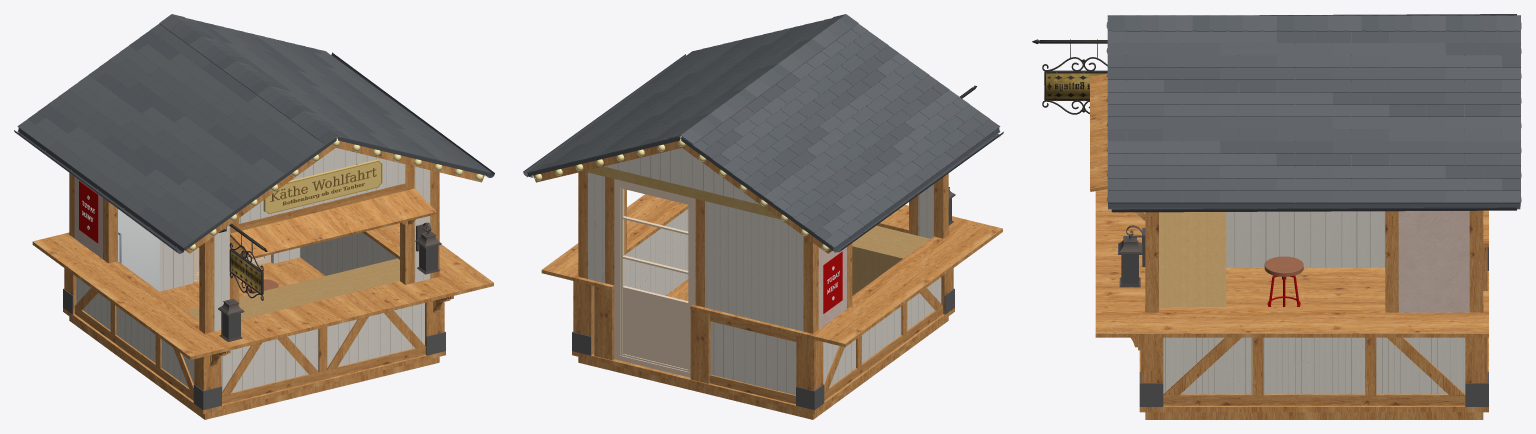
3 views of the same model, side by side, from view 1: azimuth 30°, elevation 25°; view 2: azimuth 150°, elevation 25°; view 3: azimuth 270°, elevation 25° (orthographic). The views are drawn at different scales.
Visible parts, largest first — view 1: Geom3D (×13), Geom3D_ (×11), Geom3D_Vách treo đèn#3 (×2), Geom3D_Component#171 (×2), Geom3D_Component#183 (×4), Geom3D_Thanh dinh, Geom3D_Bo goc (×2), Geom3D_Component#6, Geom3D_Thanh dinh#1, Geom3D_Component#226, Geom3D_Component#231; view 2: Geom3D (×10), Geom3D_ (×12), Geom3D_Vách treo đèn#1, Geom3D_Component#169, Geom3D_Component#171 (×3), Geom3D_Bo goc (×2), Geom3D_Component#7 (×2), Geom3D_Vách treo đèn#2, Geom3D_Thanh dinh#3 (×2), Geom3D_Thanh dinh#1, Geom3D_Vách treo đèn#3; view 3: Geom3D (×11), Geom3D_ (×9), Geom3D_Thanh dinh#1, Geom3D_Component#171 (×2), Geom3D_Bo goc (×2), Geom3D_Component#223 (×2), Geom3D_Component#231.
Boxes of the visible parts, x1=… form: Geom3D (×13): x1=14, y1=14, x2=494, y2=410; Geom3D_ (×11): x1=63, y1=138, x2=484, y2=419; Geom3D_Vách treo đèn#3 (×2): x1=214, y1=166, x2=430, y2=331; Geom3D_Component#171 (×2): x1=199, y1=170, x2=439, y2=333; Geom3D_Component#183 (×4): x1=222, y1=310, x2=425, y2=395; Geom3D_Thanh dinh: x1=222, y1=346, x2=425, y2=404; Geom3D_Bo goc (×2): x1=194, y1=301, x2=444, y2=390; Geom3D_Component#6: x1=239, y1=183, x2=405, y2=230; Geom3D_Thanh dinh#1: x1=75, y1=306, x2=193, y2=400; Geom3D_Component#226: x1=400, y1=164, x2=414, y2=284; Geom3D_Component#231: x1=103, y1=198, x2=117, y2=263; Geom3D (×10): x1=523, y1=14, x2=1003, y2=410; Geom3D_ (×12): x1=533, y1=138, x2=954, y2=419; Geom3D_Vách treo đèn#1: x1=705, y1=201, x2=803, y2=331; Geom3D_Component#169: x1=616, y1=181, x2=693, y2=377; Geom3D_Component#171 (×3): x1=578, y1=170, x2=948, y2=333; Geom3D_Bo goc (×2): x1=573, y1=281, x2=823, y2=390; Geom3D_Component#7 (×2): x1=605, y1=176, x2=704, y2=307; Geom3D_Vách treo đèn#2: x1=587, y1=172, x2=604, y2=282; Geom3D_Thanh dinh#3 (×2): x1=709, y1=314, x2=796, y2=404; Geom3D_Thanh dinh#1: x1=824, y1=306, x2=942, y2=400; Geom3D_Vách treo đèn#3: x1=918, y1=184, x2=933, y2=238; Geom3D (×11): x1=1045, y1=14, x2=1520, y2=406; Geom3D_ (×9): x1=1090, y1=74, x2=1488, y2=419; Geom3D_Thanh dinh#1: x1=1163, y1=394, x2=1465, y2=405; Geom3D_Component#171 (×2): x1=1145, y1=210, x2=1483, y2=312; Geom3D_Bo goc (×2): x1=1140, y1=337, x2=1487, y2=382; Geom3D_Component#223 (×2): x1=1163, y1=337, x2=1465, y2=395; Geom3D_Component#231: x1=1385, y1=211, x2=1398, y2=312.
Size of the model in its own units: 4.06 by 3.26 by 4.35.
Materials: 39 (11 with a texture image).
